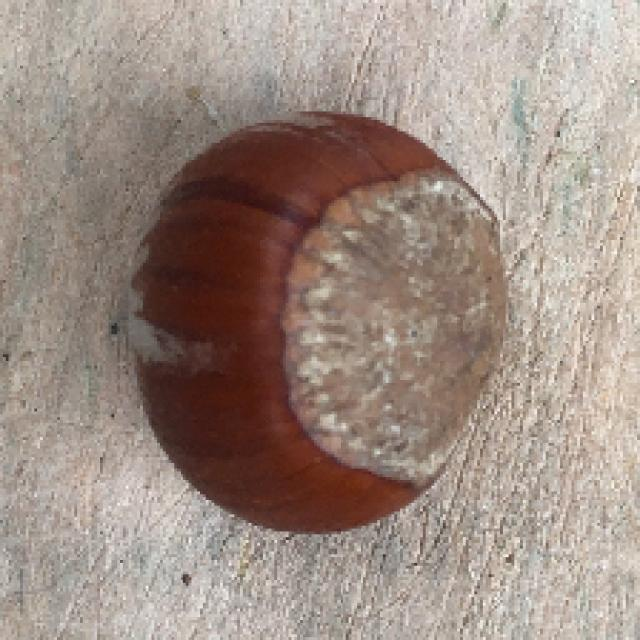qualityHazelnut: (121, 90, 521, 548)
